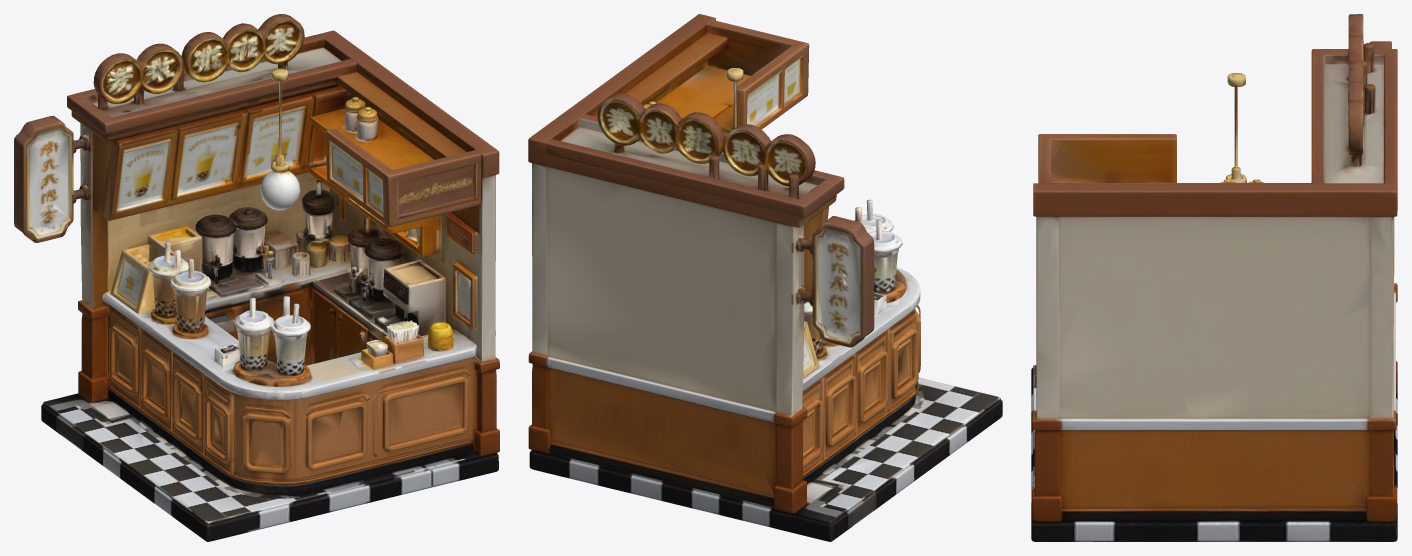
Rendered from naichadian.glb.
3 renders of one model, left to right at view 1: azimuth 30°, elevation 25°; view 2: azimuth 150°, elevation 25°; view 3: azimuth 270°, elevation 25°, orthographic. The views are drawn at different scales.
Visible parts, largest first — view 1: node_0; view 2: node_0; view 3: node_0.
Boxes of the visible parts, x1,y1,x2,y2 form: node_0: [14, 14, 499, 541]; node_0: [528, 14, 1002, 541]; node_0: [1031, 14, 1397, 541].
Size of the model in its own units: 0.7035 by 0.7594 by 0.6286.
1 material, 1 textured.
